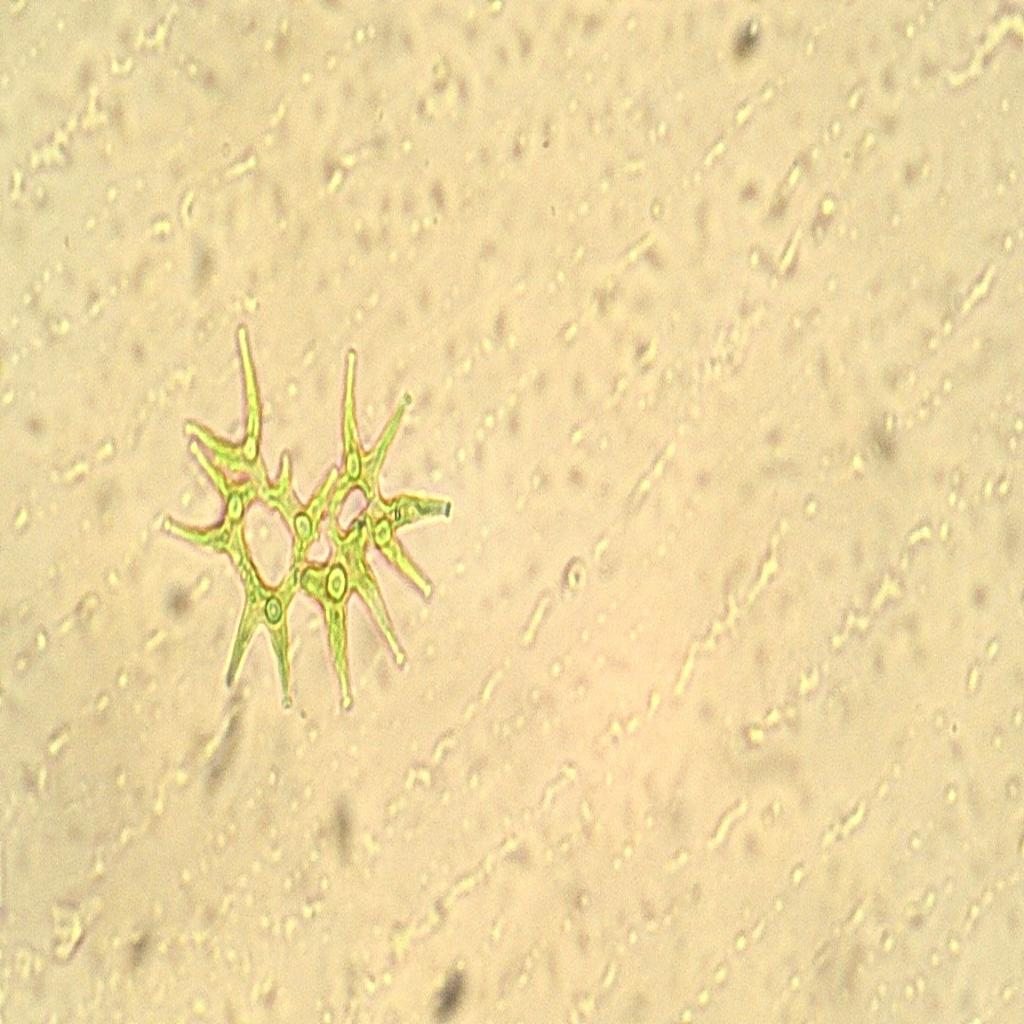Pediastrum_CFI: (141, 311, 464, 733)
